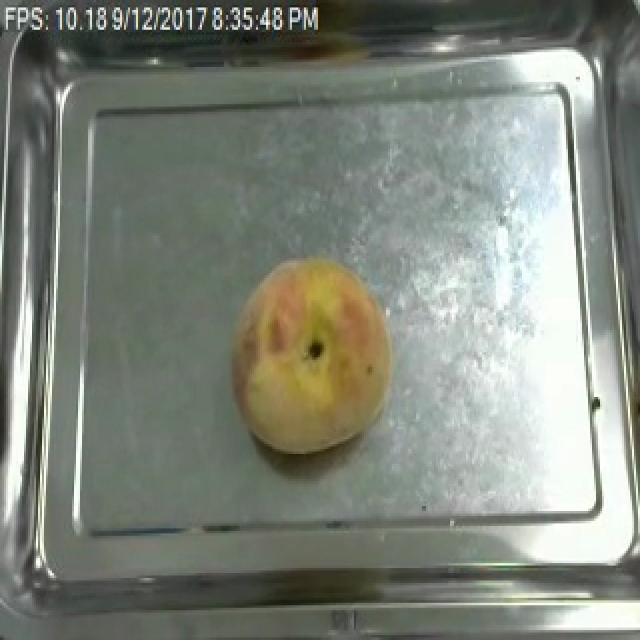Fruit: (222, 246, 406, 462)
